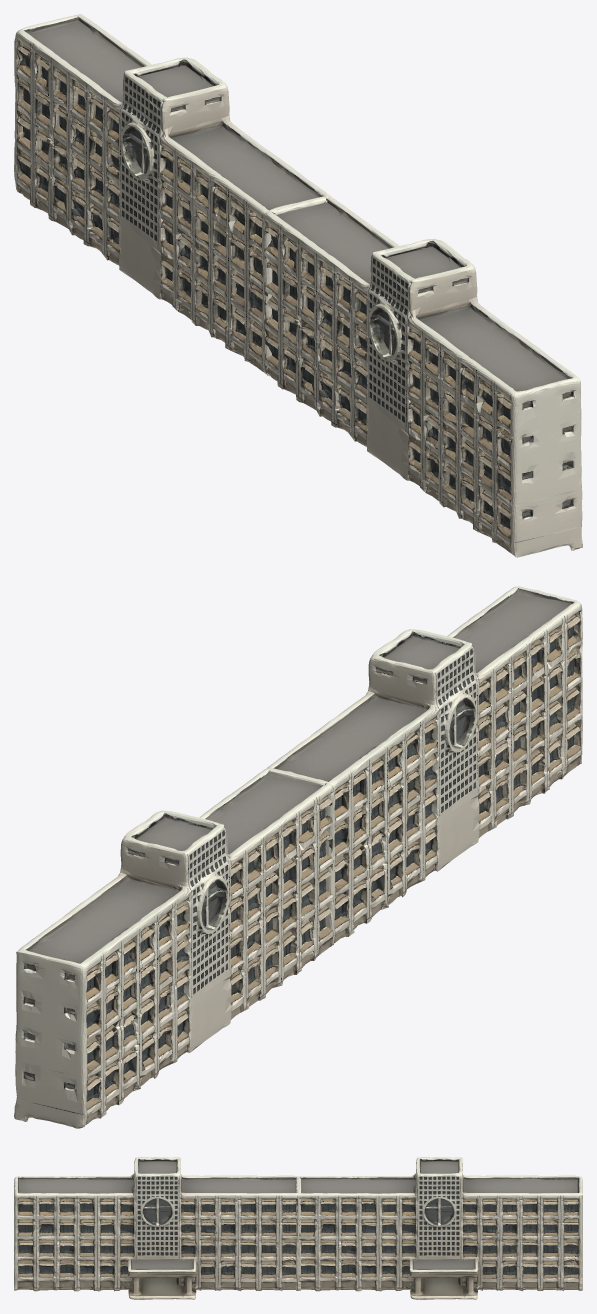
File: Admin_block.glb
The picture shows the model from 3 angles, top to bottom: view 1: azimuth 30°, elevation 25°; view 2: azimuth 150°, elevation 25°; view 3: azimuth 270°, elevation 25°; orthographic projection. The views are drawn at different scales.
Visible parts, largest first — view 1: tripo_node_6fac7fb5-a1de-4f01-966c-0d4dea9918b1, tripo_node_6fac7fb5-a1de-4f01-966c-0d4dea9918b1.001; view 2: tripo_node_6fac7fb5-a1de-4f01-966c-0d4dea9918b1.001, tripo_node_6fac7fb5-a1de-4f01-966c-0d4dea9918b1; view 3: tripo_node_6fac7fb5-a1de-4f01-966c-0d4dea9918b1, tripo_node_6fac7fb5-a1de-4f01-966c-0d4dea9918b1.001.
Part boxes in pixels (bbox=[...]): tripo_node_6fac7fb5-a1de-4f01-966c-0d4dea9918b1: bbox=[261, 196, 582, 557]; tripo_node_6fac7fb5-a1de-4f01-966c-0d4dea9918b1.001: bbox=[14, 14, 330, 376]; tripo_node_6fac7fb5-a1de-4f01-966c-0d4dea9918b1.001: bbox=[14, 768, 334, 1128]; tripo_node_6fac7fb5-a1de-4f01-966c-0d4dea9918b1: bbox=[267, 586, 582, 945]; tripo_node_6fac7fb5-a1de-4f01-966c-0d4dea9918b1: bbox=[14, 1157, 301, 1299]; tripo_node_6fac7fb5-a1de-4f01-966c-0d4dea9918b1.001: bbox=[296, 1157, 582, 1299].
Bounding box in the file's own units: 0.2616 × 0.448 × 1.98.
Materials: 2 (2 with a texture image).
